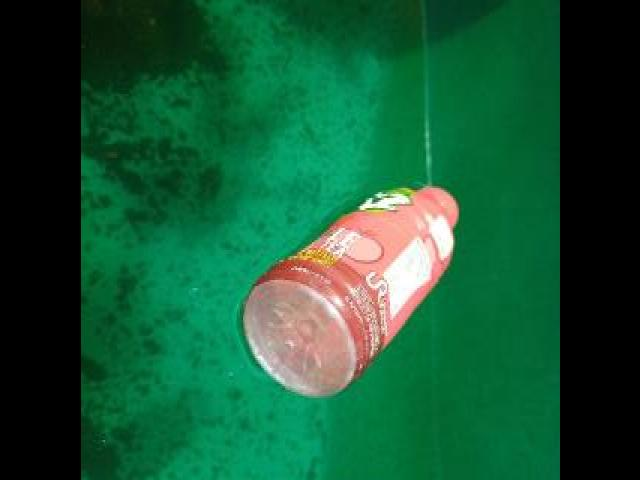Bottle: (234, 168, 464, 407)
